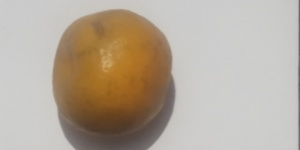BAD: (51, 8, 174, 141)
